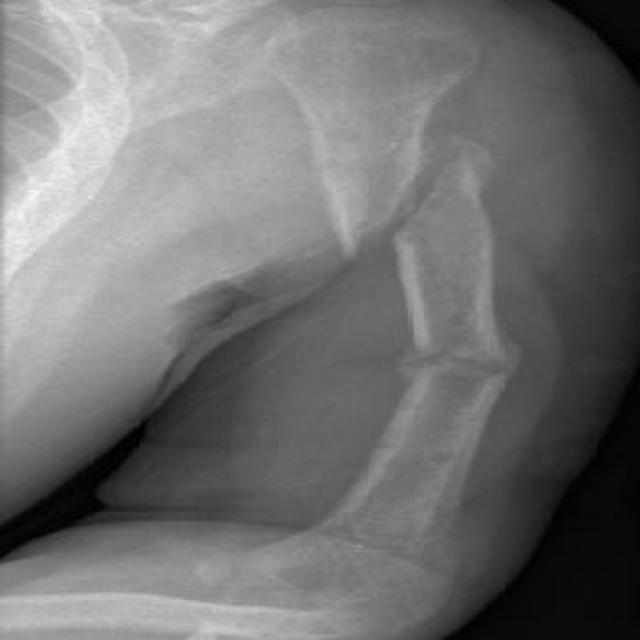Fracture: (310, 121, 493, 278), (362, 320, 558, 391)
